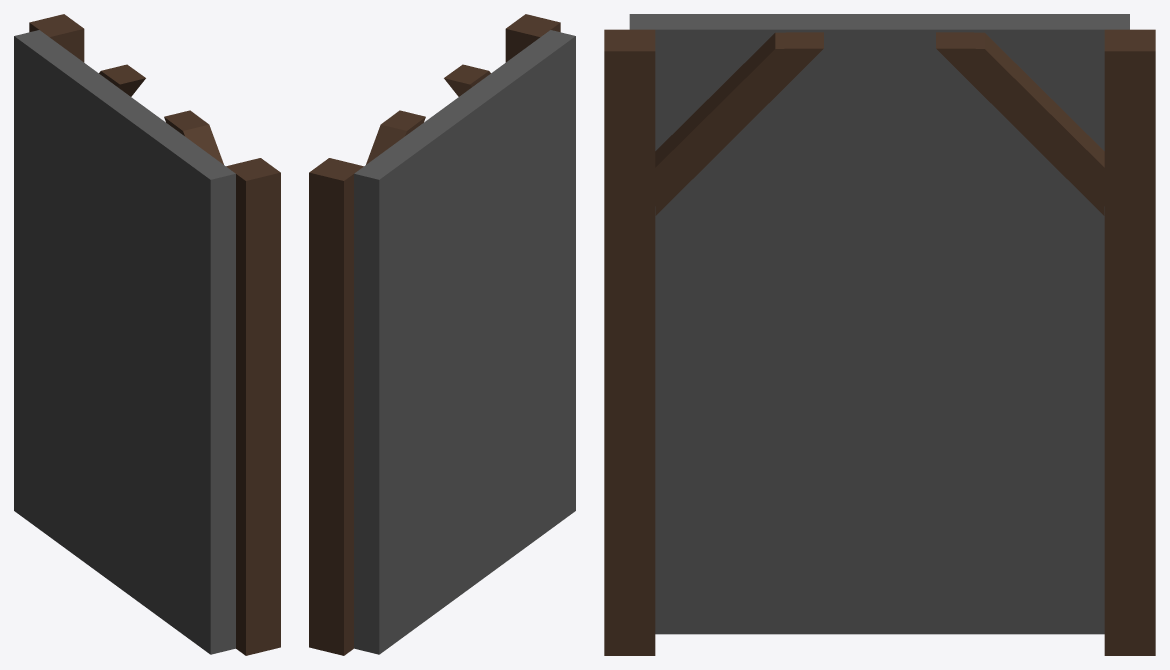
File: wall straight with support.fbx
3 renders of one model, left to right at view 1: azimuth 30°, elevation 25°; view 2: azimuth 150°, elevation 25°; view 3: azimuth 270°, elevation 25°, orthographic. The views are drawn at different scales.
Parts seen in each view (by area): view 1: default wall 4Hx3L, Cube.002, Cube, Cube.003, Cube.001; view 2: default wall 4Hx3L, Cube, Cube.002, Cube.001, Cube.003; view 3: default wall 4Hx3L, Cube, Cube.002, Cube.001, Cube.003.
Boxes of the visible parts, x1,y1,x2,y2 form: default wall 4Hx3L: [14, 30, 235, 654]; Cube.002: [226, 158, 280, 655]; Cube: [29, 14, 84, 62]; Cube.003: [164, 110, 223, 164]; Cube.001: [99, 64, 145, 96]; default wall 4Hx3L: [354, 30, 575, 654]; Cube: [309, 158, 363, 655]; Cube.002: [505, 14, 560, 62]; Cube.001: [366, 110, 425, 164]; Cube.003: [444, 64, 490, 96]; default wall 4Hx3L: [629, 14, 1129, 634]; Cube: [1104, 29, 1155, 655]; Cube.002: [604, 29, 655, 655]; Cube.001: [936, 32, 1104, 215]; Cube.003: [655, 32, 823, 215].
Size of the model in its own units: 106 by 800 by 661.
